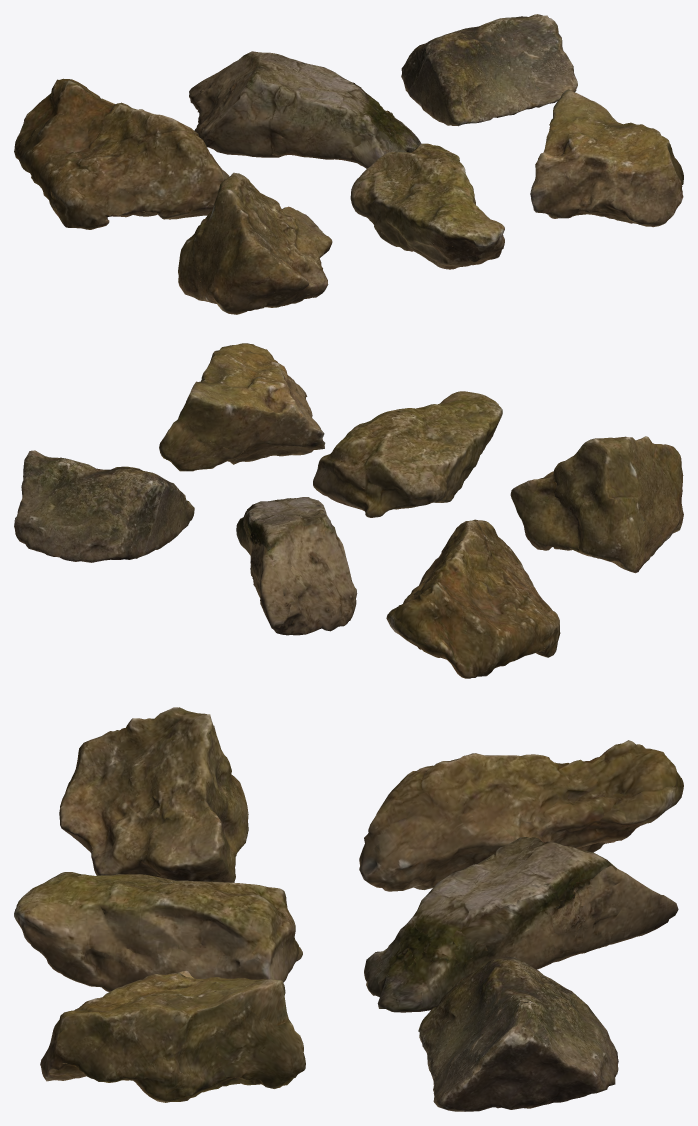
Rendered from rock_moss_set_01.glb.
3 renders of one model, top to bottom at view 1: azimuth 30°, elevation 25°; view 2: azimuth 150°, elevation 25°; view 3: azimuth 270°, elevation 25°, orthographic. The views are drawn at different scales.
Visible parts, largest first — view 1: rock_moss_set_01_rock01, rock_moss_set_01_rock02, rock_moss_set_01_rock06, rock_moss_set_01_rock04, rock_moss_set_01_rock03, rock_moss_set_01_rock05; view 2: rock_moss_set_01_rock04, rock_moss_set_01_rock01, rock_moss_set_01_rock05, rock_moss_set_01_rock03, rock_moss_set_01_rock06, rock_moss_set_01_rock02; view 3: rock_moss_set_01_rock01, rock_moss_set_01_rock02, rock_moss_set_01_rock05, rock_moss_set_01_rock06, rock_moss_set_01_rock04, rock_moss_set_01_rock03.
Boxes of the visible parts, left/top/right/bottom form: rock_moss_set_01_rock01: left=14, top=78, right=229, bottom=229; rock_moss_set_01_rock02: left=189, top=51, right=421, bottom=168; rock_moss_set_01_rock06: left=530, top=89, right=683, bottom=227; rock_moss_set_01_rock04: left=178, top=172, right=332, bottom=314; rock_moss_set_01_rock03: left=401, top=14, right=577, bottom=126; rock_moss_set_01_rock05: left=350, top=143, right=504, bottom=269; rock_moss_set_01_rock04: left=510, top=436, right=683, bottom=573; rock_moss_set_01_rock01: left=386, top=519, right=560, bottom=678; rock_moss_set_01_rock05: left=313, top=391, right=502, bottom=517; rock_moss_set_01_rock03: left=14, top=450, right=194, bottom=562; rock_moss_set_01_rock06: left=159, top=343, right=325, bottom=471; rock_moss_set_01_rock02: left=236, top=497, right=357, bottom=635; rock_moss_set_01_rock01: left=359, top=740, right=683, bottom=891; rock_moss_set_01_rock02: left=364, top=837, right=678, bottom=1012; rock_moss_set_01_rock05: left=14, top=872, right=302, bottom=991; rock_moss_set_01_rock06: left=40, top=970, right=305, bottom=1102; rock_moss_set_01_rock04: left=59, top=707, right=248, bottom=882; rock_moss_set_01_rock03: left=418, top=956, right=618, bottom=1111.
Size of the model in its own units: 8 by 1.77 by 6.95.
1 material, 1 textured.
